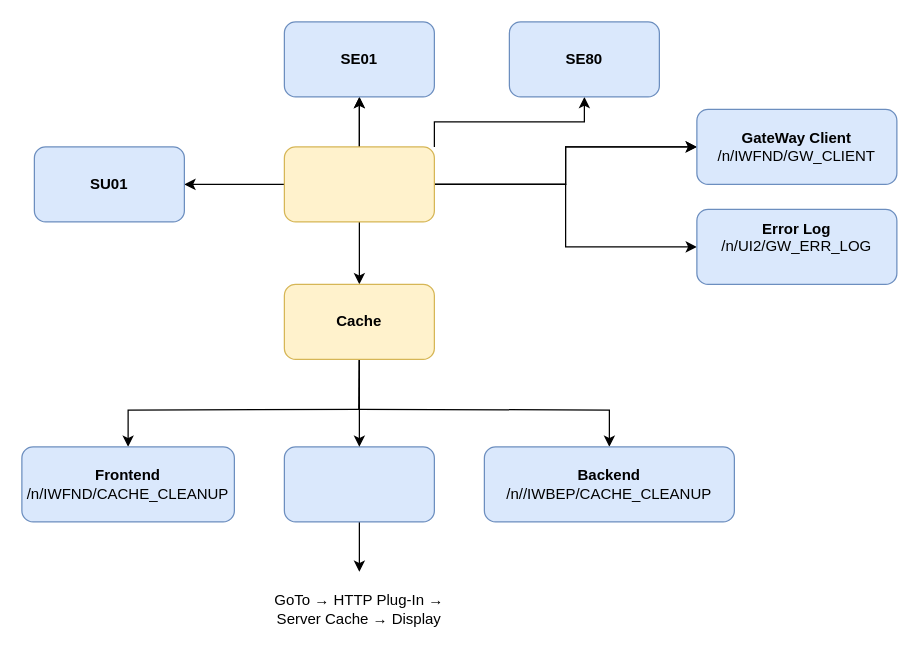
The diagram is 919 pixels wide and 669 high, and some of its shapes have lost their labels. The shapes that lost their labels are listed below. From the top down, each one's centre as x and y in pixels, then its label:
(x=358, y=184): SAP Logon
(x=358, y=484): SMICM
